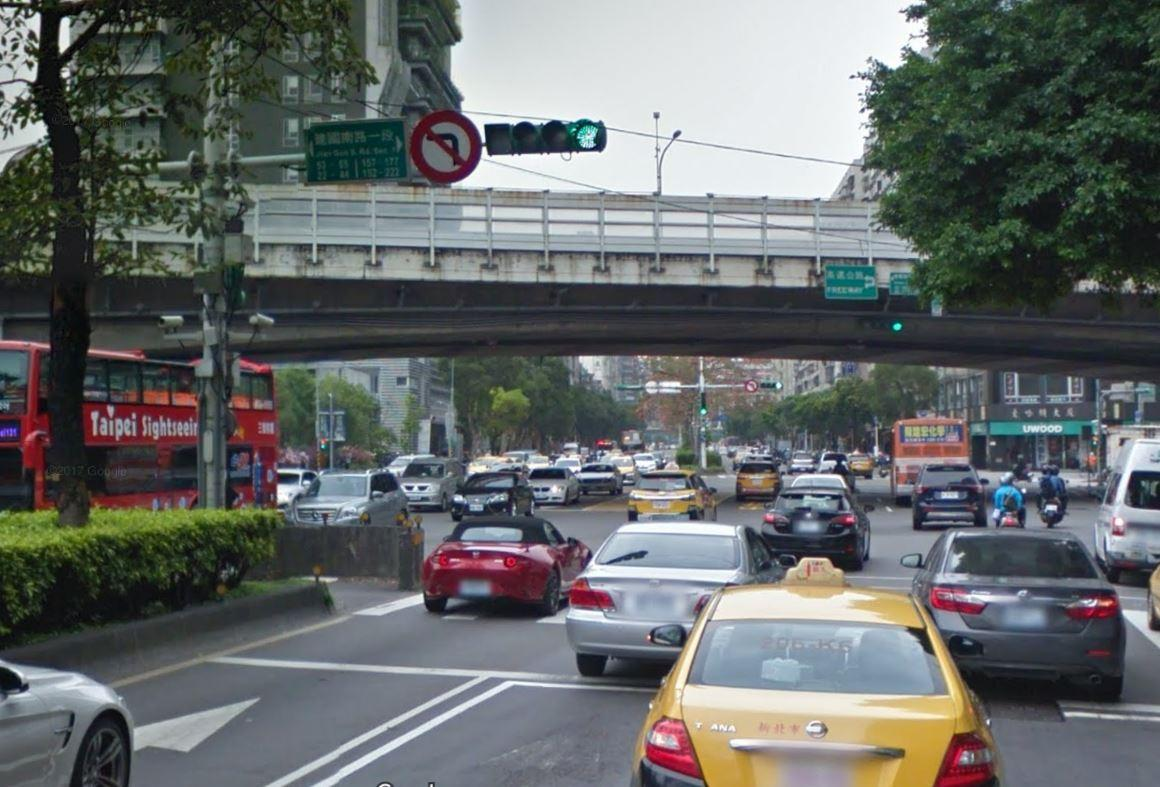bus: (0, 332, 283, 511), (1094, 430, 1160, 575), (887, 410, 970, 507)
car: (635, 554, 1005, 787), (900, 524, 1133, 715), (561, 510, 767, 681), (416, 502, 592, 623), (745, 477, 874, 567), (284, 465, 417, 538), (907, 457, 990, 534), (621, 469, 720, 530), (453, 464, 534, 530), (398, 454, 464, 509), (730, 455, 789, 498), (526, 464, 579, 505), (571, 464, 624, 499)
green_traffic_light: (481, 117, 606, 154)
motorcycle: (986, 462, 1030, 541), (1027, 460, 1074, 525)
no_left_turn: (408, 109, 480, 181)
